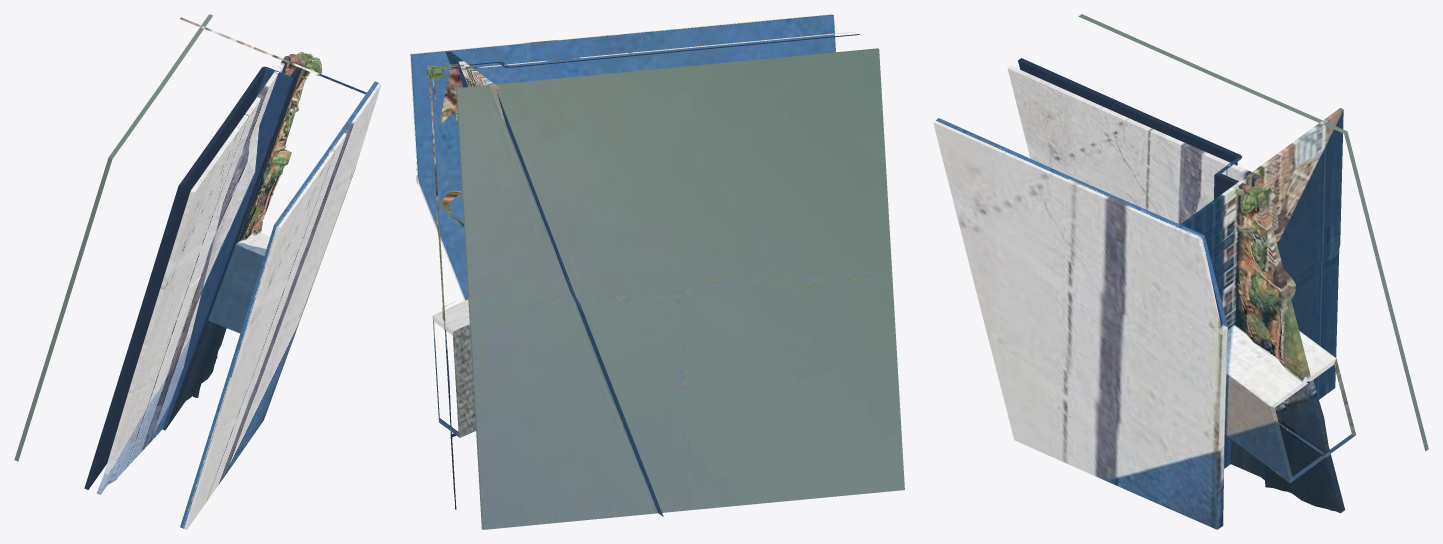
The model's file is congresso_tile_194.glb.
The picture shows the model from 3 angles, left to right: view 1: azimuth 30°, elevation 25°; view 2: azimuth 150°, elevation 25°; view 3: azimuth 270°, elevation 25°; orthographic projection. The views are drawn at different scales.
Bounding box in the file's own units: 46.55 × 42.77 × 47.07.
2 materials, 2 textured.
